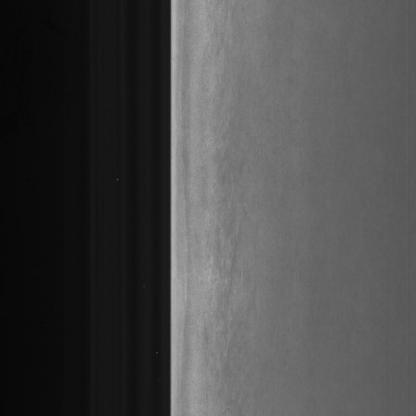silk_spot: (202, 109, 252, 335)
